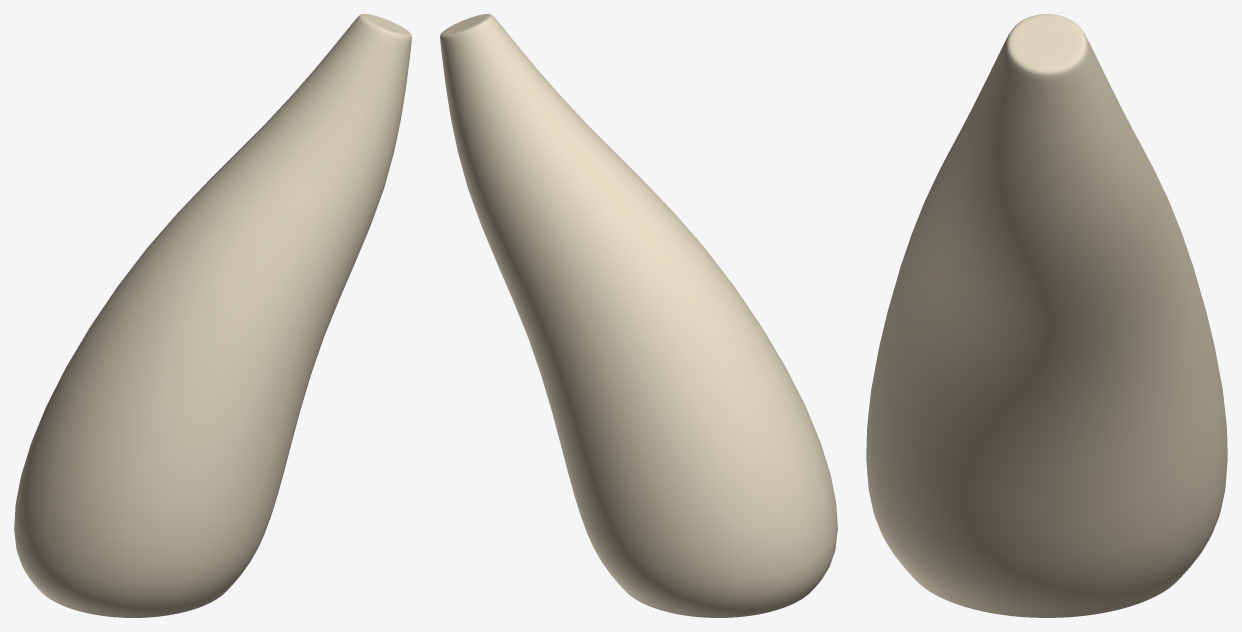
The model's file is stem.fbx.
The picture shows the model from 3 angles, left to right: view 1: azimuth 30°, elevation 25°; view 2: azimuth 150°, elevation 25°; view 3: azimuth 270°, elevation 25°; orthographic projection. The views are drawn at different scales.
Visible parts, largest first — view 1: mushroom; view 2: mushroom; view 3: mushroom.
Boxes of the visible parts, <box> form: mushroom: <box>14,14,411,617</box>; mushroom: <box>440,14,837,617</box>; mushroom: <box>866,14,1227,617</box>.
Bounding box in the file's own units: 155 × 196 × 91.25.
